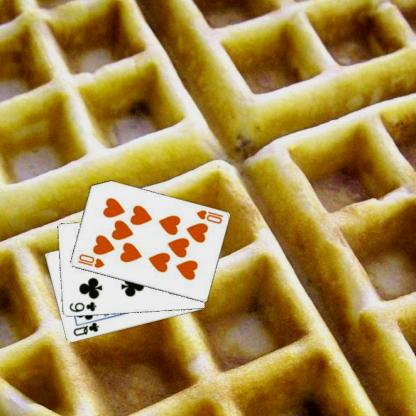10H: (74, 252, 106, 270), (193, 208, 224, 226)
6C: (66, 299, 98, 314)
QC: (70, 320, 100, 337)
